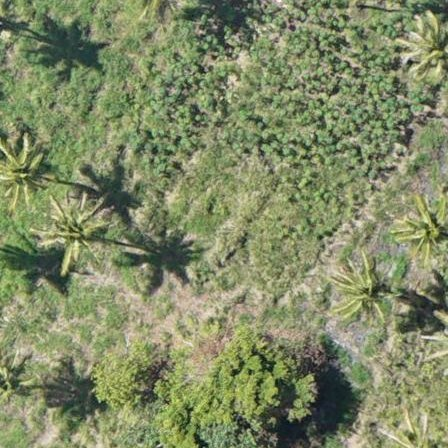palm_tree: (327, 252, 402, 331), (36, 193, 109, 271), (393, 191, 448, 266), (1, 134, 52, 209), (400, 11, 448, 84), (1, 349, 34, 408)
